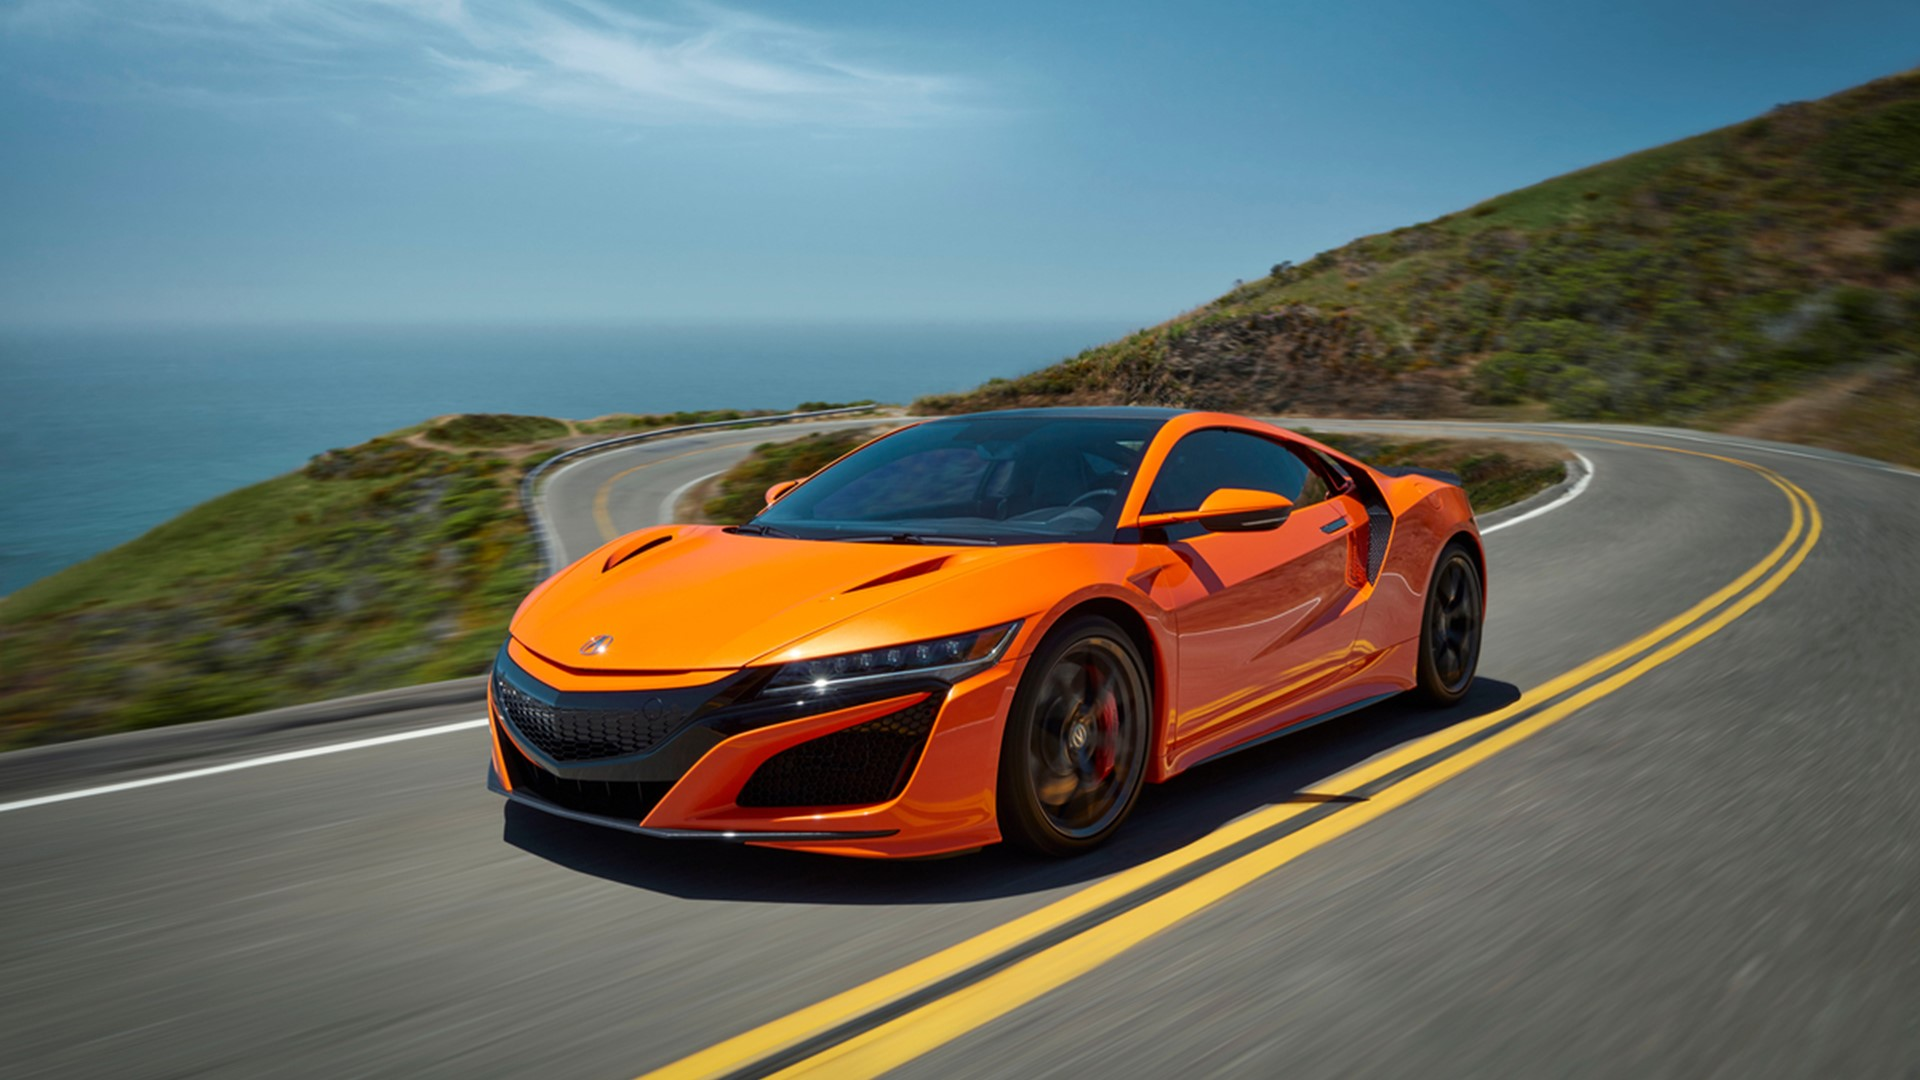Acura NSX 2019: (487, 404, 1487, 862)
